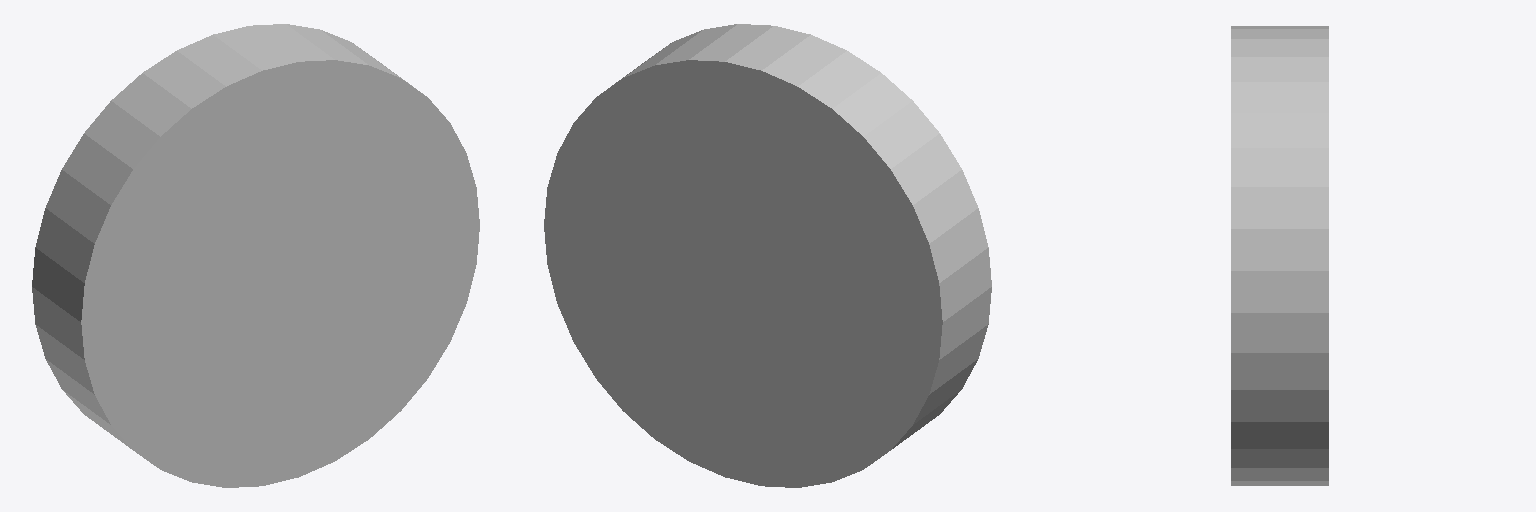
File: col7.obj
3 renders of one model, left to right at view 1: azimuth 30°, elevation 25°; view 2: azimuth 150°, elevation 25°; view 3: azimuth 270°, elevation 25°, orthographic.
Visible parts, largest first — view 1: Körper7; view 2: Körper7; view 3: Körper7.
Part boxes in pixels (x1,y1,x2,y2): Körper7: (32, 24, 479, 487); Körper7: (544, 24, 991, 487); Körper7: (1231, 26, 1328, 485).
Bounding box in the file's own units: 0.014 × 0.0139 × 0.003.